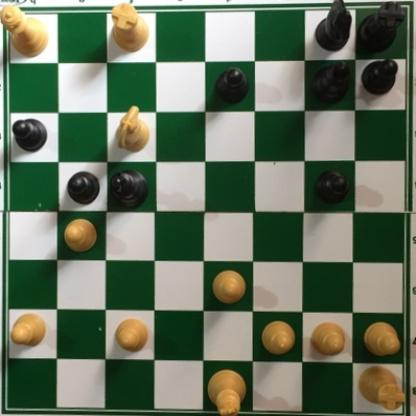black-bishop: (306, 58, 349, 103)
black-king: (105, 167, 148, 210)
black-knight: (314, 1, 355, 53)
black-pawn: (360, 57, 399, 96), (212, 66, 249, 106), (313, 166, 349, 204), (10, 117, 48, 152), (65, 169, 101, 205)
black-rook: (356, 1, 404, 54)
white-king: (206, 365, 251, 416)
white-knight: (112, 101, 151, 152)
white-pawn: (358, 322, 401, 357), (258, 319, 296, 357), (210, 267, 247, 306), (8, 310, 49, 345), (112, 316, 150, 353), (309, 320, 346, 358), (63, 218, 98, 253)
white-queen: (1, 1, 49, 56)
white-rook: (354, 361, 405, 412), (105, 1, 148, 54)
